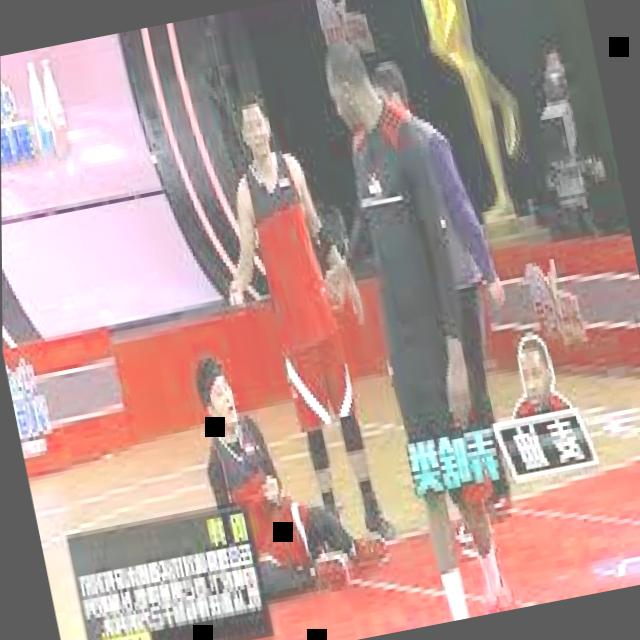Fall-Detected: (167, 304, 398, 610)
